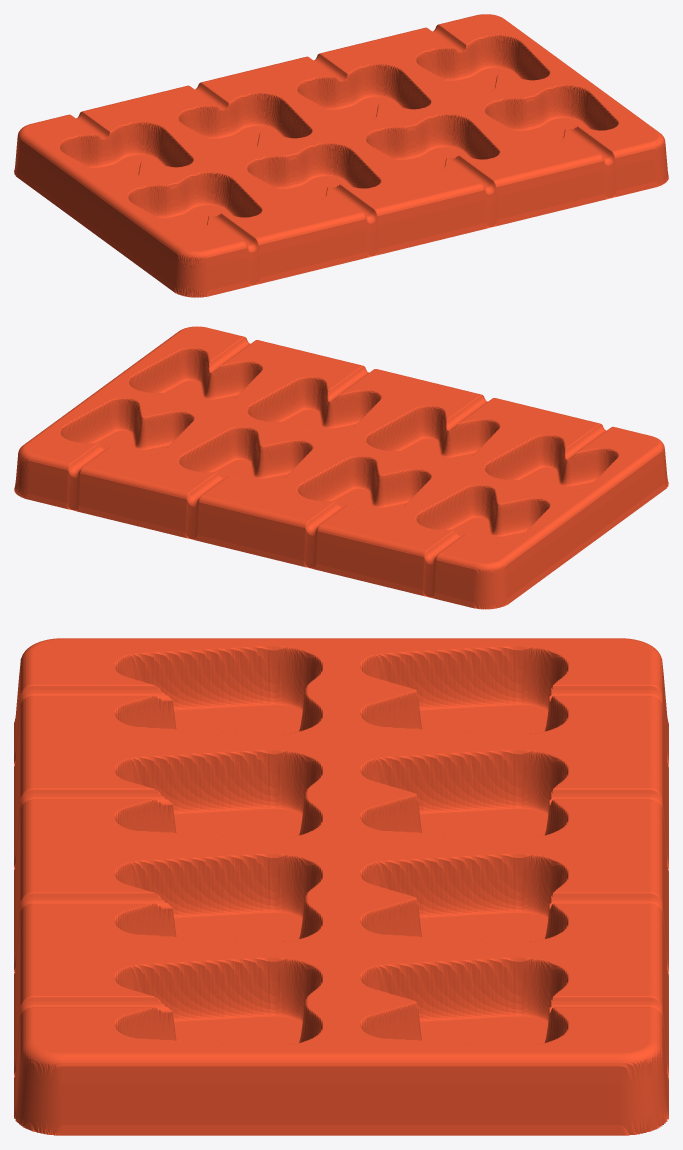
File: mold.glb
3 views of the same model, one above another, from view 1: azimuth 30°, elevation 25°; view 2: azimuth 150°, elevation 25°; view 3: azimuth 270°, elevation 25° (orthographic). The views are drawn at different scales.
Parts seen in each view (by area): view 1: geometry_0; view 2: geometry_0; view 3: geometry_0.
Boxes of the visible parts, x1=… form: geometry_0: x1=14, y1=14, x2=668, y2=297; geometry_0: x1=14, y1=326, x2=668, y2=609; geometry_0: x1=14, y1=638, x2=668, y2=1135.
Bounding box in the file's own units: 0.1907 × 0.0155 × 0.1229.
